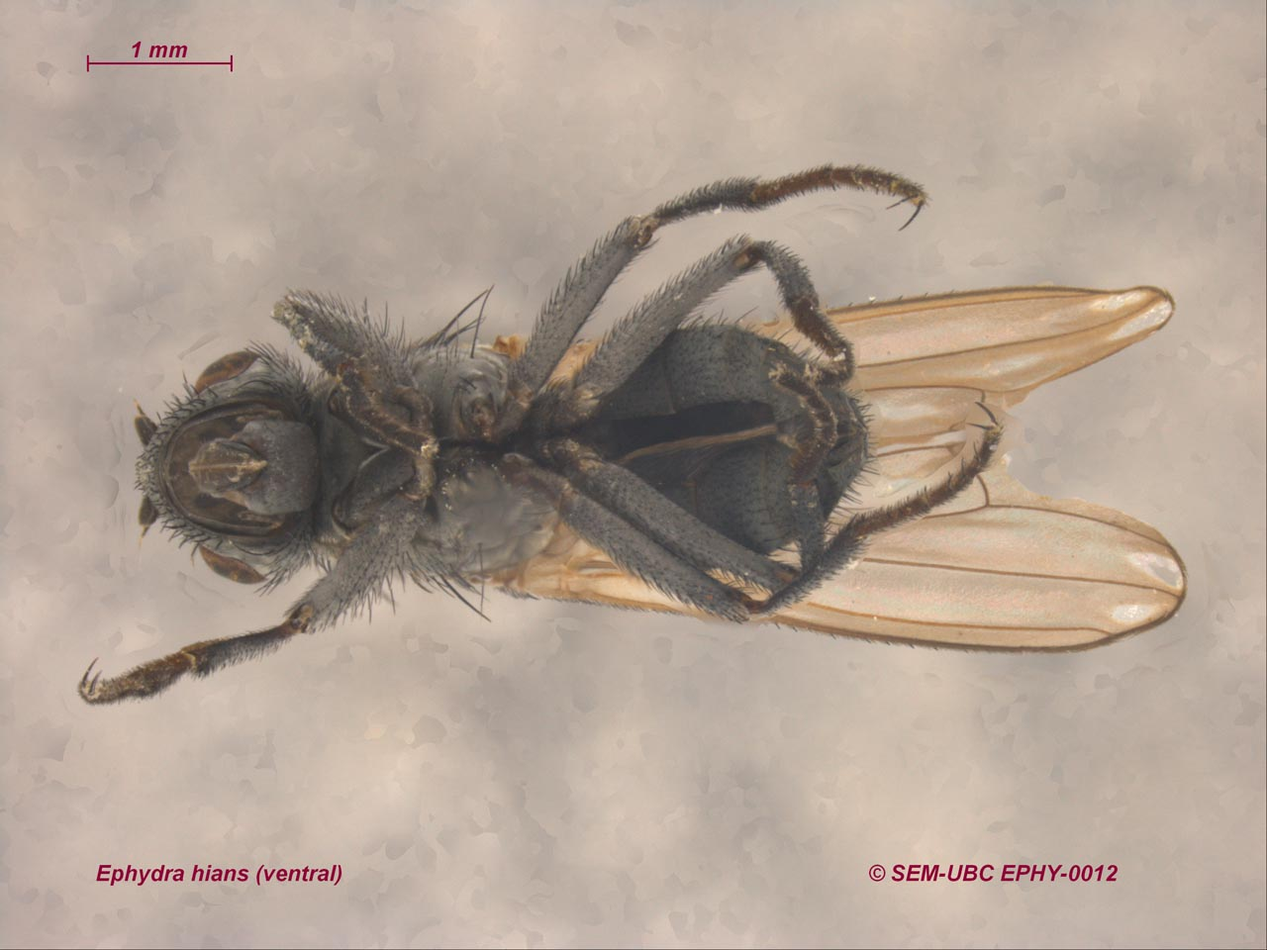Ephydridae: (75, 162, 1188, 710)
